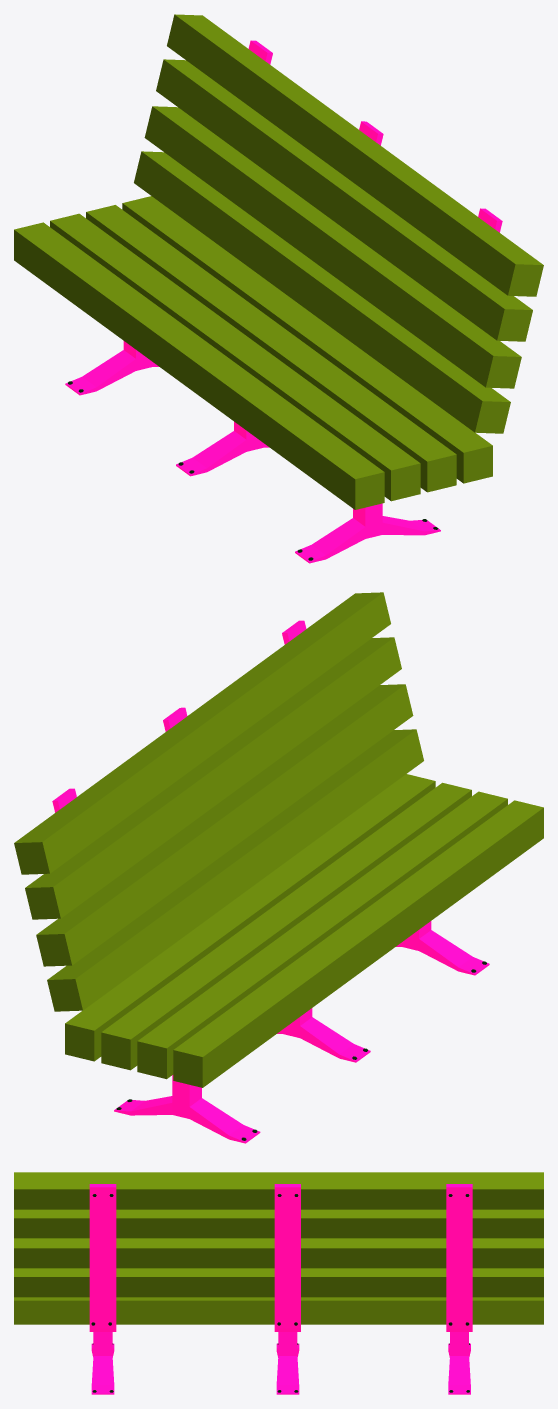
Rendered from bench_.fbx.
3 views of the same model, one above another, from view 1: azimuth 30°, elevation 25°; view 2: azimuth 150°, elevation 25°; view 3: azimuth 270°, elevation 25° (orthographic). The views are drawn at different scales.
Parts seen in each view (by area): view 1: bench_1; view 2: bench_1; view 3: bench_1.
Boxes of the visible parts, x1=… form: bench_1: x1=14, y1=14, x2=543, y2=563; bench_1: x1=14, y1=592, x2=543, y2=1143; bench_1: x1=14, y1=1172, x2=543, y2=1394.
Size of the model in its own units: 66.67 by 96.7 by 201.
